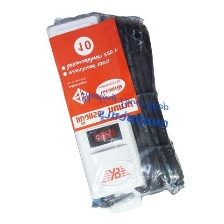three_eye_plug: (42, 4, 152, 205)
